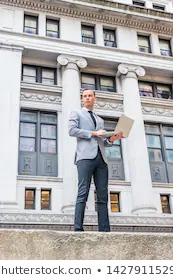F_M_suit jacket: (67, 105, 114, 165)
F_dress pants: (73, 148, 114, 231)
